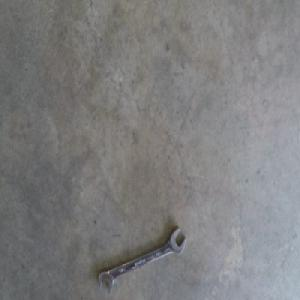Wrench: (97, 229, 185, 291)
